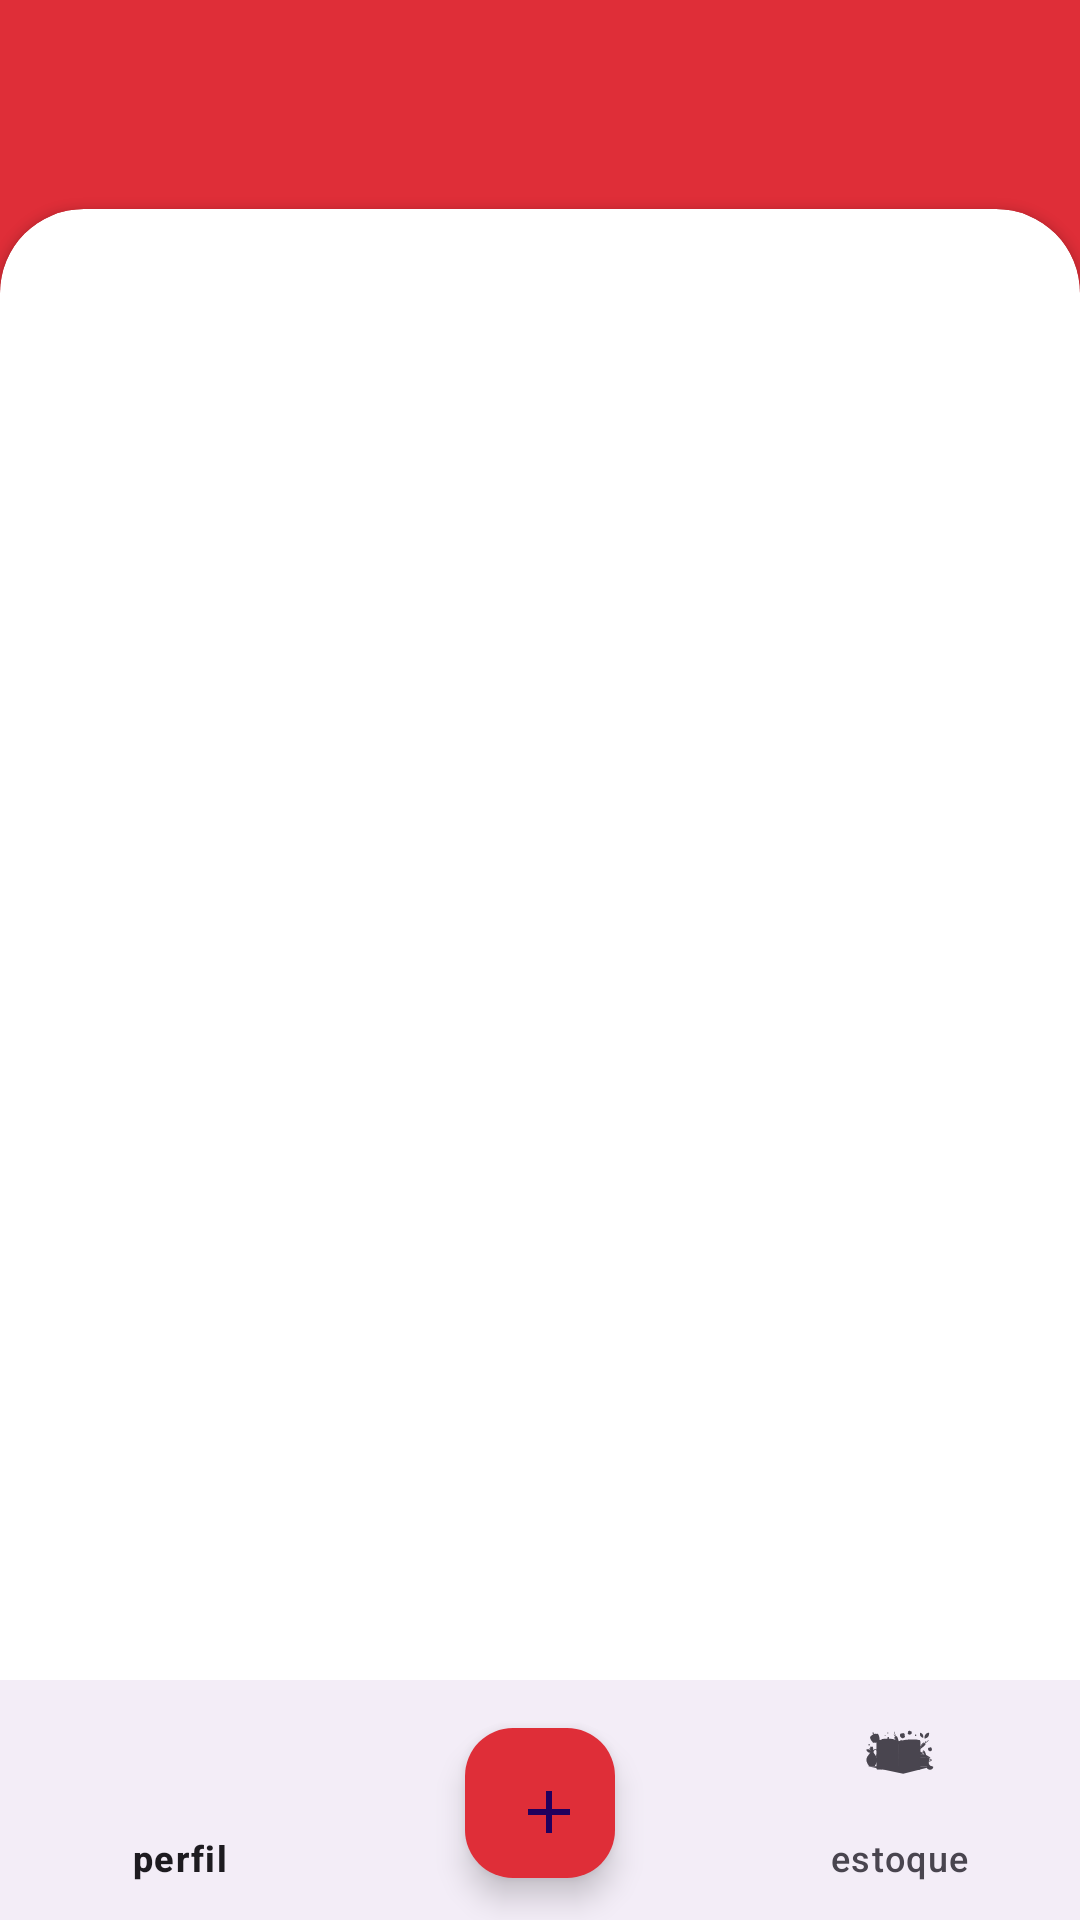

Named icons in this screenshot (1080x1920) and their bounding boxes, [left=x1, top=y1, right=x2, bottom=y2]:
add: [left=465, top=1728, right=615, bottom=1878]
